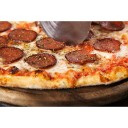pepperonipizza: (1, 21, 128, 83)
